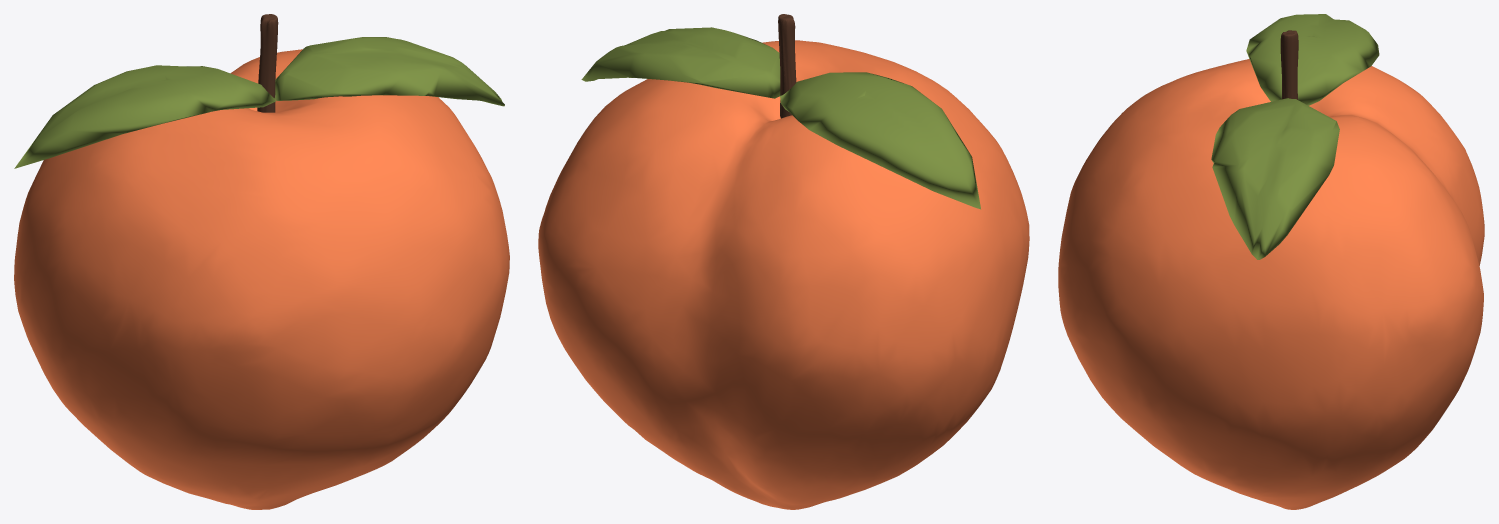
The model's file is peachy.glb.
The picture shows the model from 3 angles, left to right: view 1: azimuth 30°, elevation 25°; view 2: azimuth 150°, elevation 25°; view 3: azimuth 270°, elevation 25°; orthographic projection. The views are drawn at different scales.
Parts seen in each view (by area): view 1: Peach, Leaves, stem; view 2: Peach, Leaves, stem; view 3: Peach, Leaves, stem.
Part boxes in pixels (left/top/right/bottom): Peach: left=14, top=49, right=509, bottom=509; Leaves: left=14, top=37, right=504, bottom=168; stem: left=257, top=14, right=278, bottom=112; Peach: left=538, top=40, right=1029, bottom=509; Leaves: left=581, top=27, right=980, bottom=209; stem: left=778, top=14, right=796, bottom=118; Peach: left=1058, top=59, right=1484, bottom=509; Leaves: left=1211, top=14, right=1379, bottom=259; stem: left=1280, top=30, right=1298, bottom=99.
Bounding box in the file's own units: 219 × 231 × 189.
